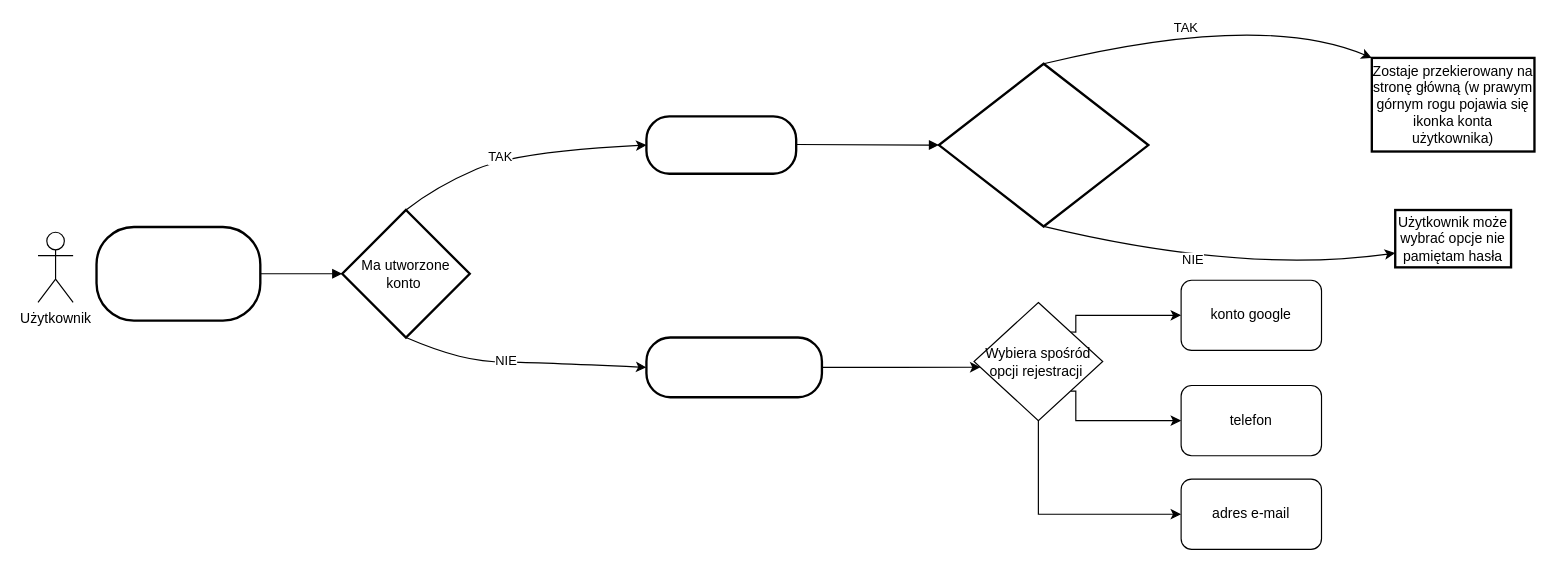
The diagram is 1556 pixels wide and 570 high, and some of its shapes have lost their labels. The centre of each missing label's shape, as x and y in pixels:
Czy udało się zalogować ?: [1043,144]
Loguje się na konto: [721,144]
Tworzy konto użytkownika: [734,367]
Znajduje się na stronie głównej: [178,273]
